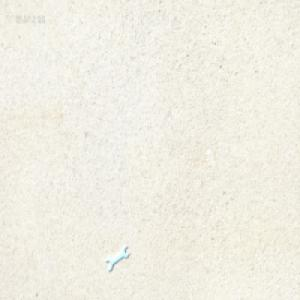Wrench: (106, 243, 129, 271)
